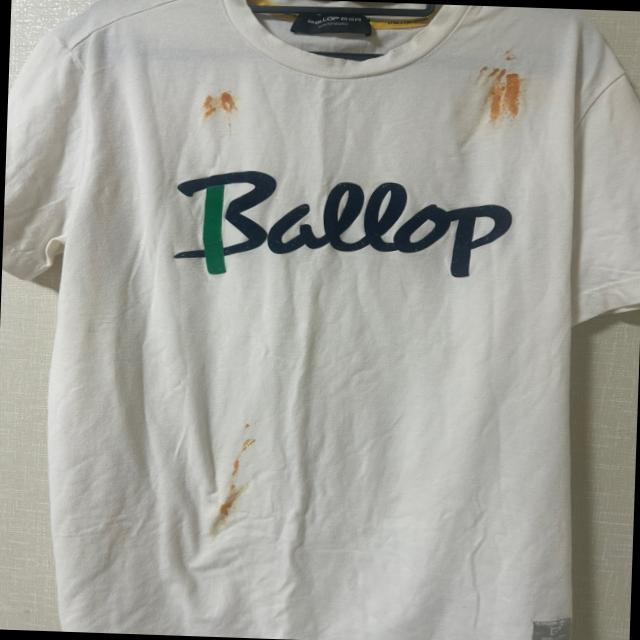stain: (474, 62, 528, 127), (202, 90, 242, 120), (238, 418, 264, 456), (219, 484, 243, 519), (228, 452, 249, 478), (502, 48, 516, 62)
